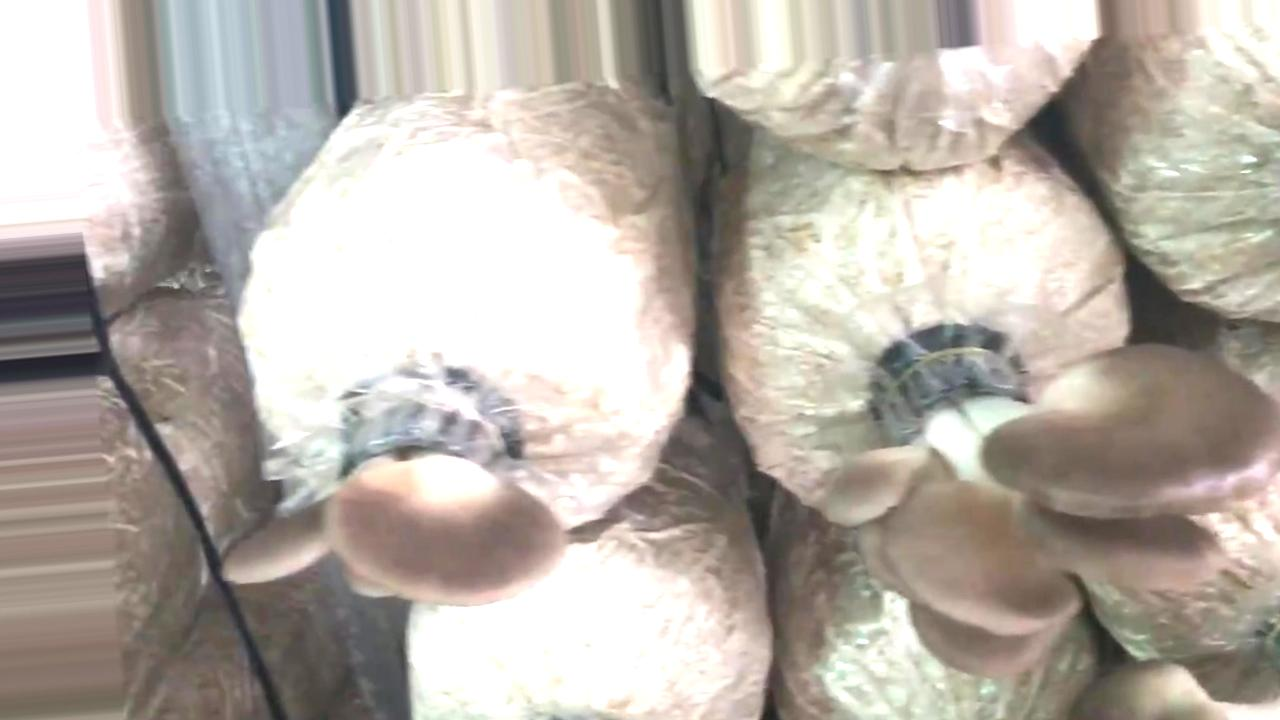nam: (818, 338, 1280, 685), (220, 380, 570, 607)
